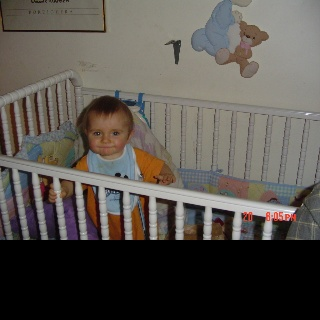without_mask: (87, 117, 125, 156)
